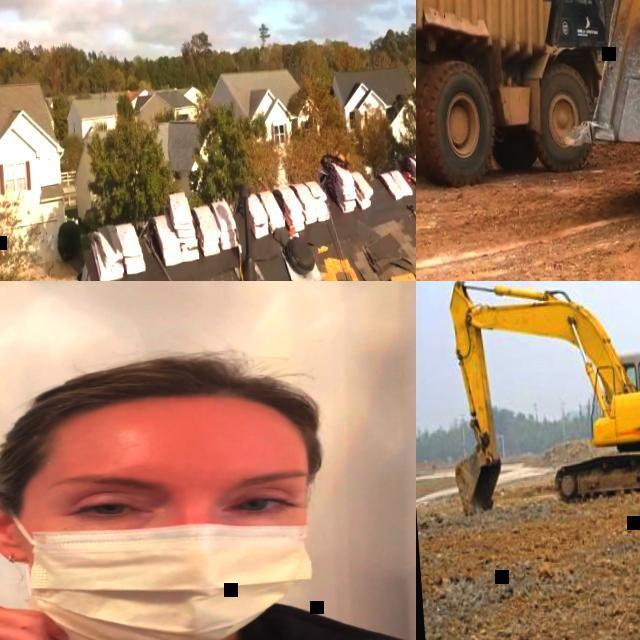no_helmet: (2, 358, 333, 640)
